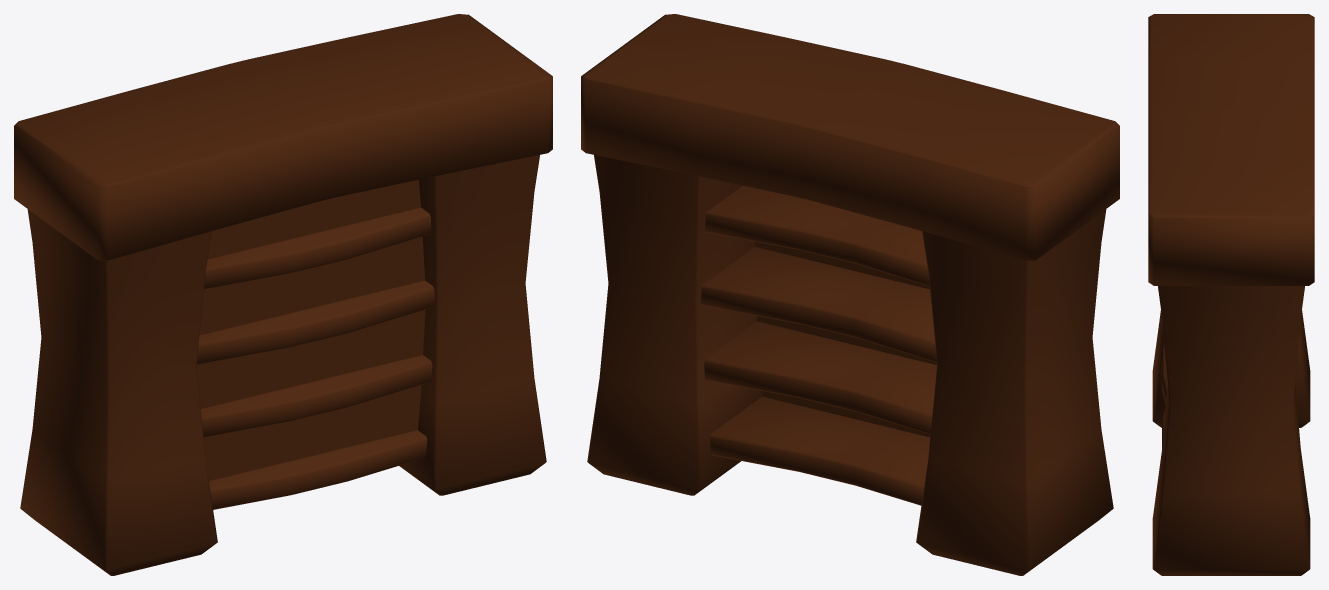
File: SM_shelf.FBX
3 views of the same model, side by side, from view 1: azimuth 30°, elevation 25°; view 2: azimuth 150°, elevation 25°; view 3: azimuth 270°, elevation 25° (orthographic). The views are drawn at different scales.
Visible parts, largest first — view 1: shelf; view 2: shelf; view 3: shelf.
Part boxes in pixels (bbox=[...]): shelf: bbox=[14, 14, 552, 575]; shelf: bbox=[581, 14, 1119, 575]; shelf: bbox=[1148, 14, 1314, 575].
Bounding box in the file's own units: 86.83 × 73.56 × 29.82.
